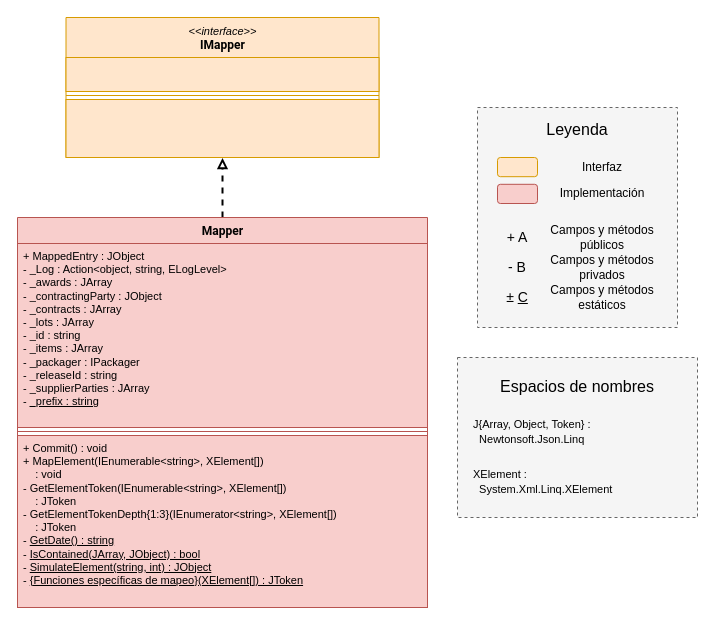
Image size: 715x628. Some labels were removed from this diagram. Here are the shapes that lost their labels. From the top down, the box of each, then its label:
(65, 56, 379, 92): + MappedEntry : JObject
(65, 98, 379, 158): + Commit() : void + MapElement(IEnumerable<string>, XElement[]) : void
